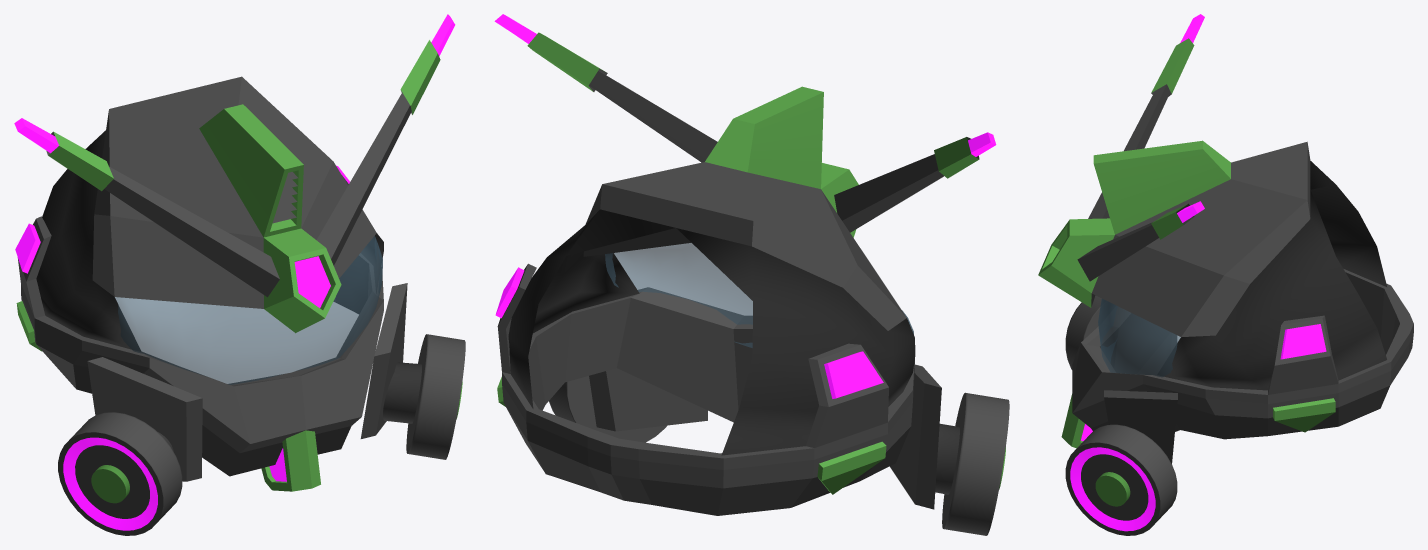
The model's file is Hat_Mech-Helm.fbx.
3 views of the same model, side by side, from view 1: azimuth 30°, elevation 25°; view 2: azimuth 150°, elevation 25°; view 3: azimuth 270°, elevation 25° (orthographic). The views are drawn at different scales.
Visible parts, largest first — view 1: Mech_Helm; view 2: Mech_Helm; view 3: Mech_Helm.
Part boxes in pixels (left/top/right/bottom): Mech_Helm: left=14, top=14, right=465, bottom=535; Mech_Helm: left=494, top=14, right=1009, bottom=535; Mech_Helm: left=1038, top=14, right=1413, bottom=535.
Bounding box in the file's own units: 416 × 359 × 344.
